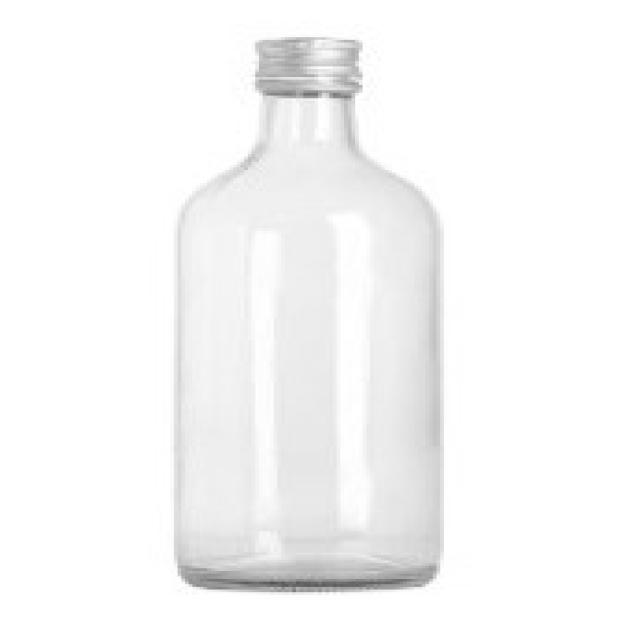electronic: (161, 33, 452, 599)
